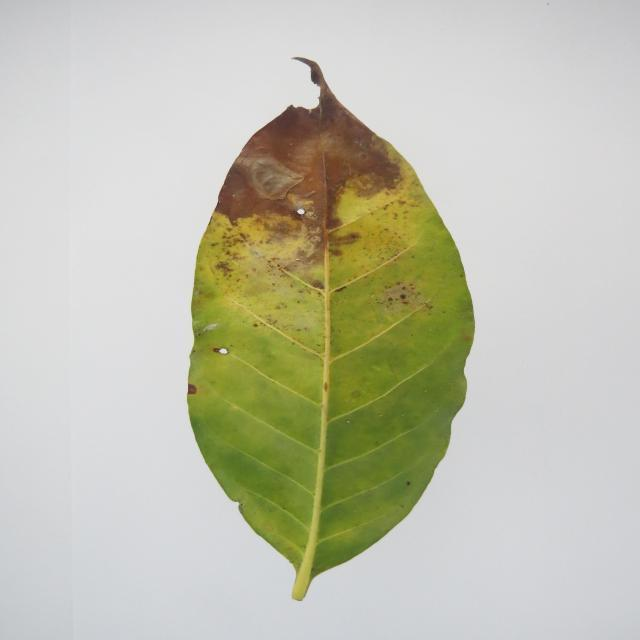DeficienciaNutricional-Potasio: (188, 58, 473, 600)
